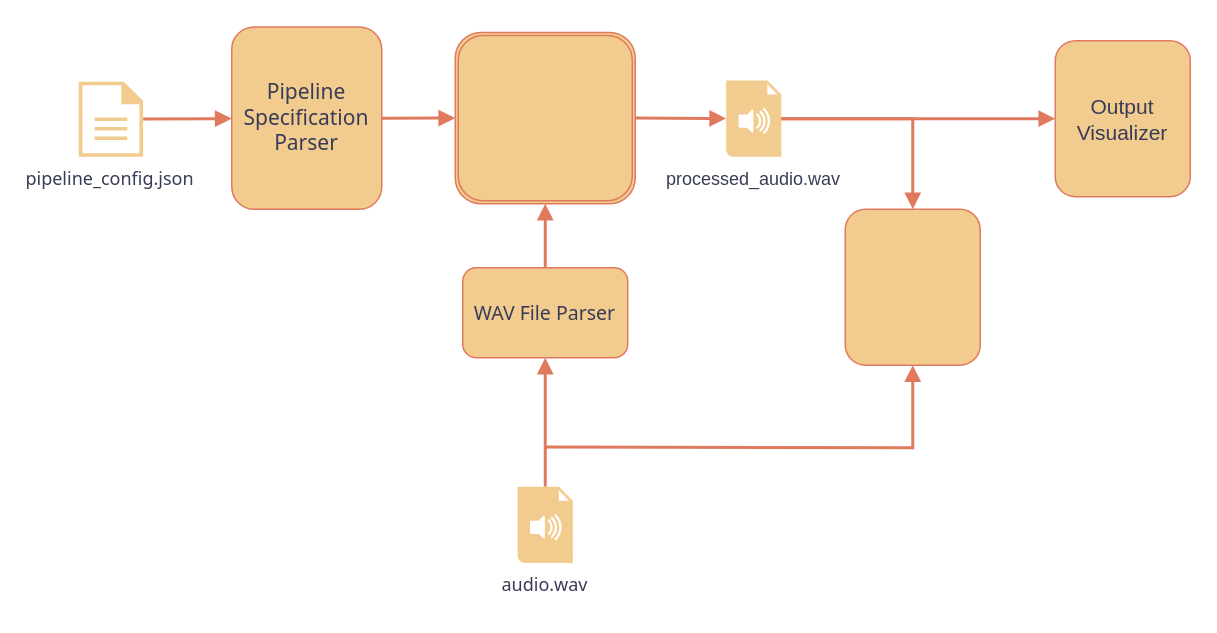
This 1217x633 diagram has some shape labels left out. The shapes that lost their labels are listed below. From the top down, each one's box as (x1, y1, x2, y2) in pixels, then its label:
(454, 31, 635, 204): Audio Processing Engine
(844, 208, 980, 365): Output Verification
